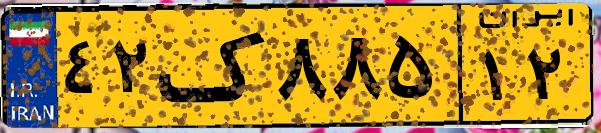1: (475, 38, 525, 113)
2: (525, 38, 570, 115), (110, 28, 158, 98)
4: (57, 26, 110, 100)
5: (385, 28, 445, 110)
8: (270, 28, 330, 110), (330, 28, 385, 110)
ک: (158, 12, 270, 120)
